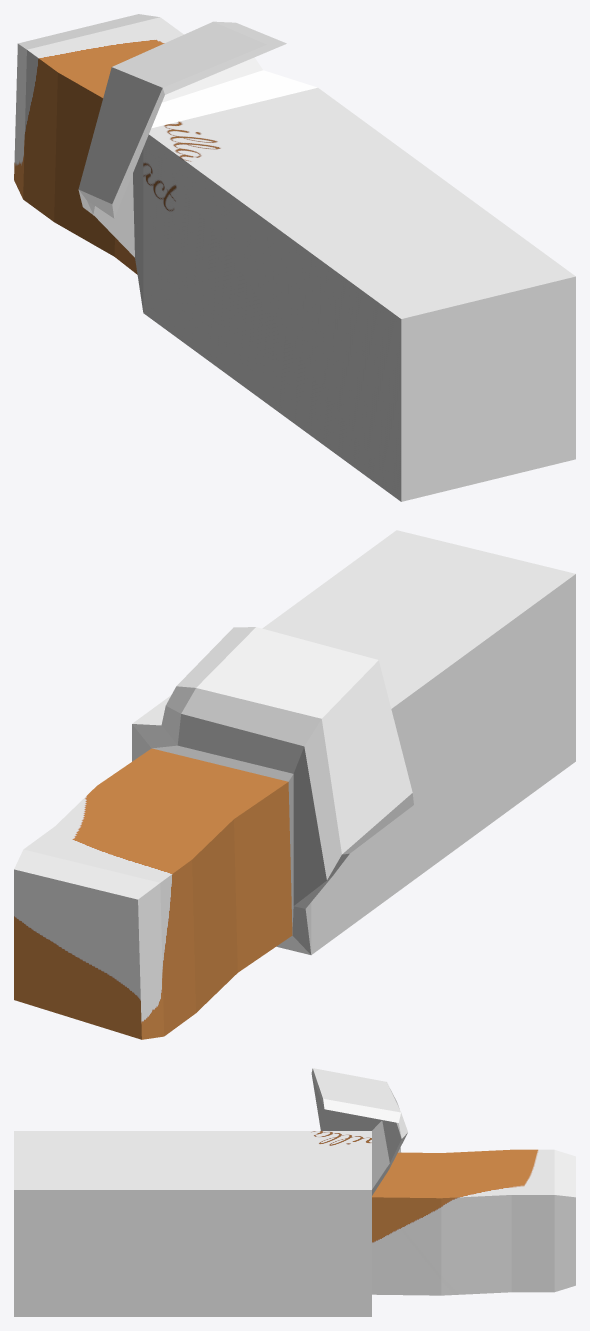
File: Prop masak_Butter_Textured.fbx
The picture shows the model from 3 angles, top to bottom: view 1: azimuth 30°, elevation 25°; view 2: azimuth 150°, elevation 25°; view 3: azimuth 270°, elevation 25°; orthographic projection. The views are drawn at different scales.
Visible parts, largest first — view 1: Butter; view 2: Butter; view 3: Butter.
Part boxes in pixels (x1,y1,x2,y2): Butter: (14, 14, 575, 501); Butter: (14, 530, 575, 1039); Butter: (14, 1068, 575, 1316).
Size of the model in its own units: 7.68 by 8.34 by 22.48.
